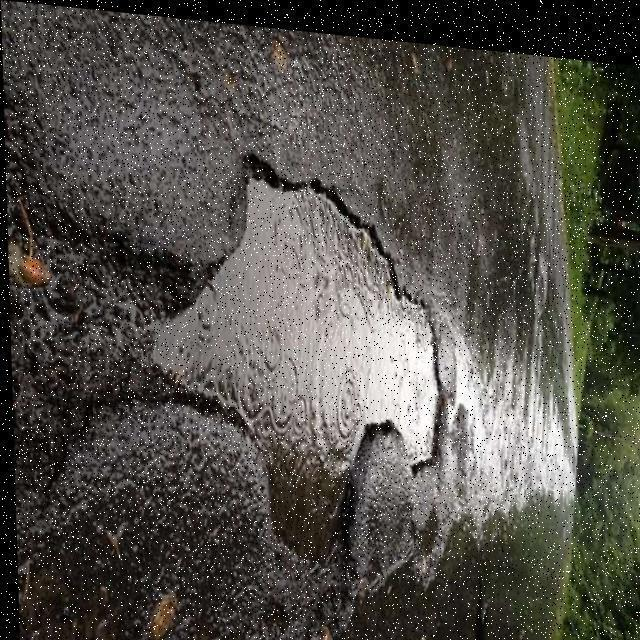Pothole: (5, 92, 454, 567)
